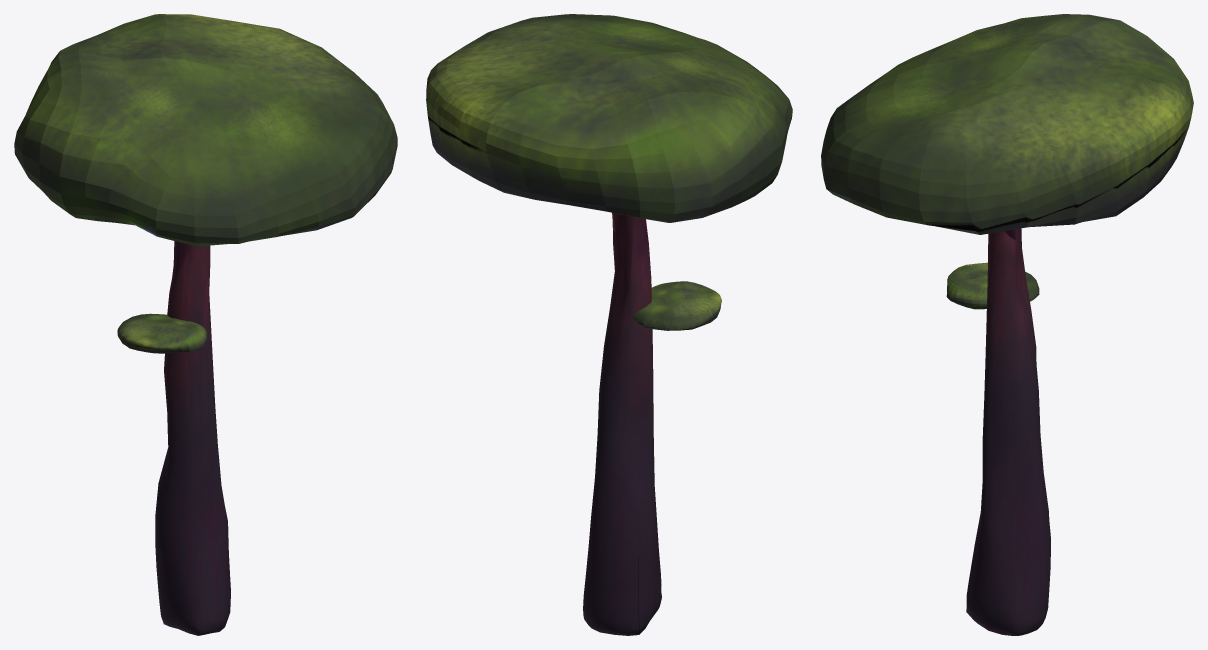
Rendered from Tree01.obj.
3 renders of one model, left to right at view 1: azimuth 30°, elevation 25°; view 2: azimuth 150°, elevation 25°; view 3: azimuth 270°, elevation 25°, orthographic. The views are drawn at different scales.
Parts seen in each view (by area): view 1: tree01; view 2: tree01; view 3: tree01.
Boxes of the visible parts, <box> form: tree01: <box>14,14,397,635</box>; tree01: <box>426,14,792,635</box>; tree01: <box>821,14,1193,635</box>.
Bounding box in the file's own units: 992 × 1676 × 991.
